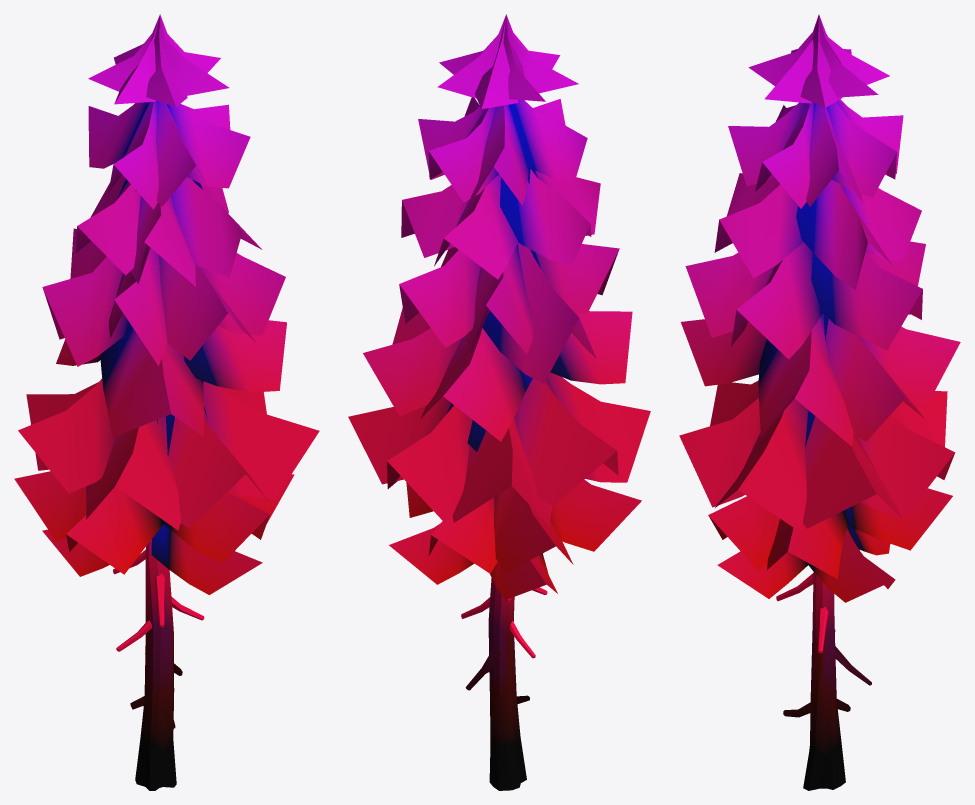
The model's file is PT_Pine_Tree_03_GRN.fbx.
The picture shows the model from 3 angles, left to right: view 1: azimuth 30°, elevation 25°; view 2: azimuth 150°, elevation 25°; view 3: azimuth 270°, elevation 25°; orthographic projection.
Parts seen in each view (by area): view 1: PT_Pine_Tree_03_green_LOD0; view 2: PT_Pine_Tree_03_green_LOD0; view 3: PT_Pine_Tree_03_green_LOD0.
Part boxes in pixels (box(x1,y1,x2,y2)): PT_Pine_Tree_03_green_LOD0: box(14, 14, 319, 790); PT_Pine_Tree_03_green_LOD0: box(348, 14, 650, 790); PT_Pine_Tree_03_green_LOD0: box(679, 14, 960, 790).
Size of what is drawn, in the model's own units: 321 by 917 by 303.
